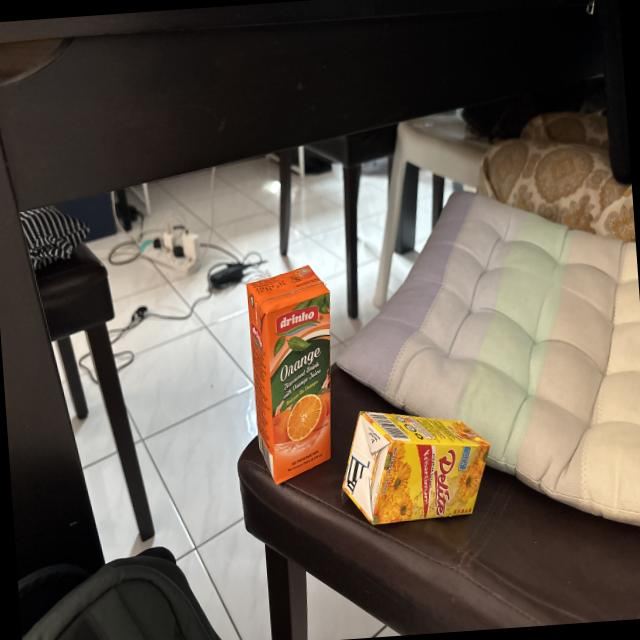drink_carton: (234, 252, 346, 490), (333, 392, 502, 538)
